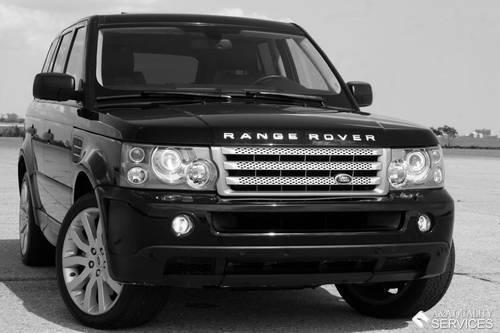car: (17, 13, 457, 328)
